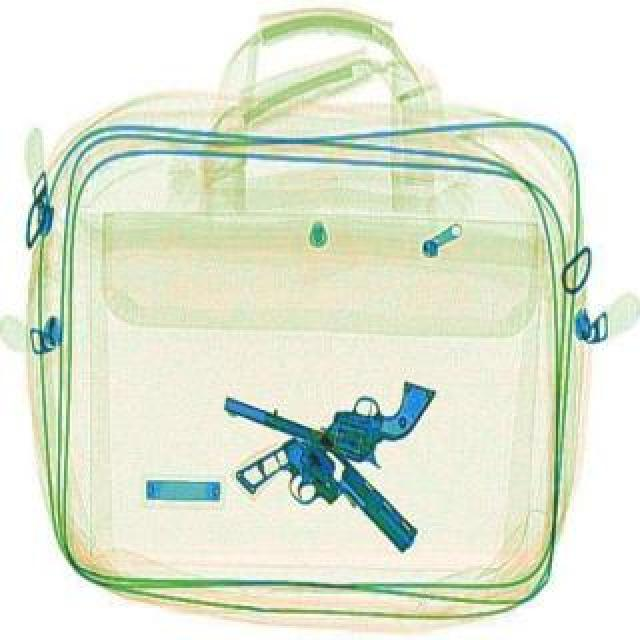gun: (230, 414, 424, 596), (218, 324, 436, 474)
